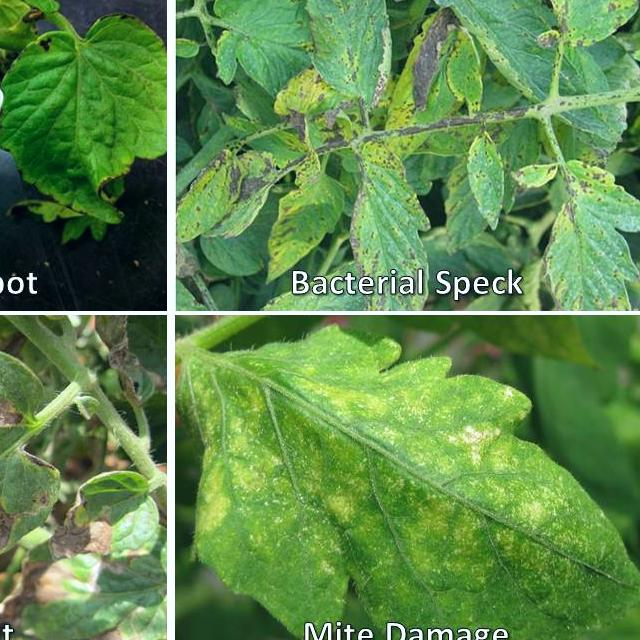Tomato Early blight leaf: (0, 2, 167, 266), (509, 141, 639, 308), (0, 343, 77, 621), (340, 127, 424, 308), (283, 0, 399, 124), (192, 0, 336, 98), (263, 135, 346, 302), (187, 147, 282, 260), (436, 17, 489, 124)
